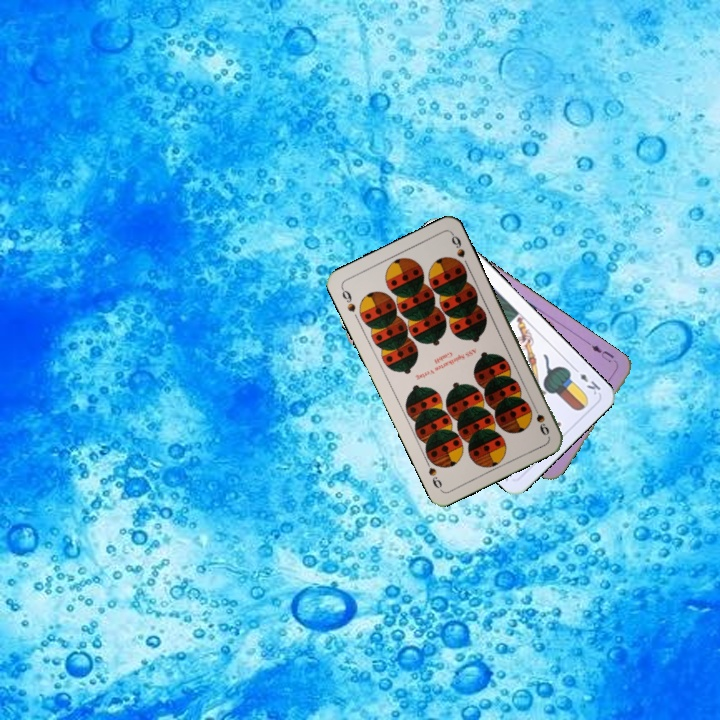EK: (569, 363, 603, 397)
EU: (587, 341, 617, 365)
S9: (529, 400, 552, 438), (337, 284, 358, 315)
